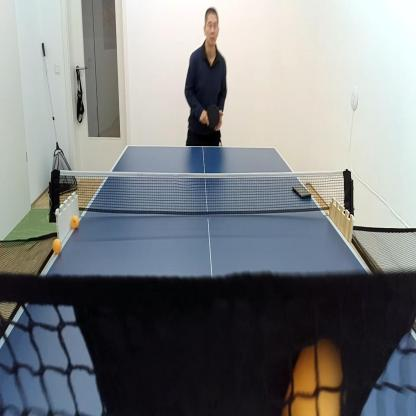Ball: (279, 334, 347, 416), (52, 236, 63, 257), (70, 213, 80, 231), (0, 241, 3, 252)
